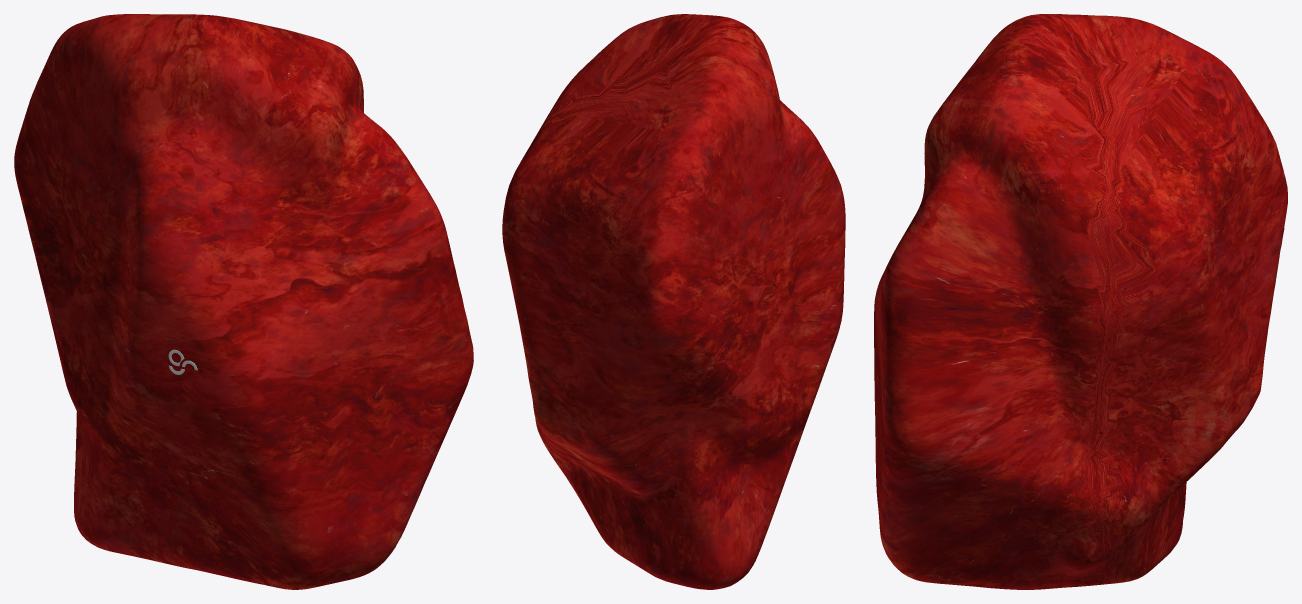
3 renders of one model, left to right at view 1: azimuth 30°, elevation 25°; view 2: azimuth 150°, elevation 25°; view 3: azimuth 270°, elevation 25°, orthographic. The views are drawn at different scales.
Parts seen in each view (by area): view 1: jasper.001; view 2: jasper.001; view 3: jasper.001.
Part boxes in pixels (x1=…): jasper.001: x1=14, y1=14, x2=473, y2=589; jasper.001: x1=502, y1=14, x2=845, y2=589; jasper.001: x1=874, y1=14, x2=1287, y2=589.
Bounding box in the file's own units: 117 × 207 × 144.
1 material, 1 textured.
